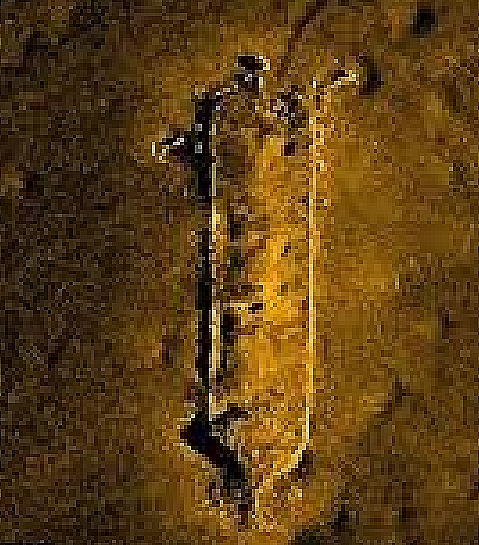ship: (202, 56, 321, 530)
